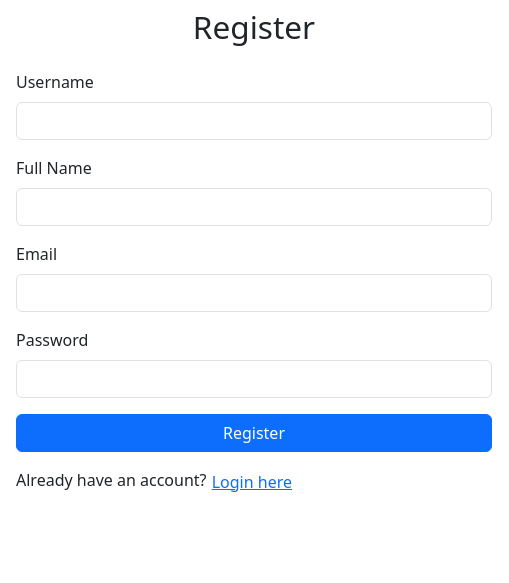
RegistrationPage Component › displays error message on registration failure
// Fill out the form
Type "existinguser" into the field labelled "Username".
click(254, 121); type("existinguser")  # box [16, 102, 492, 140]
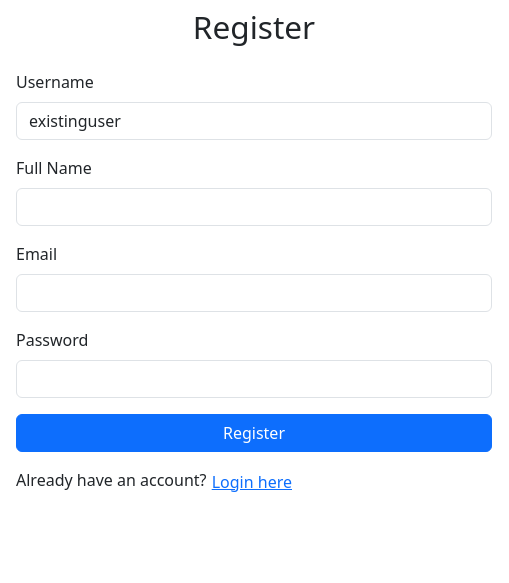
Type "Test User" into the field labelled "Full Name".
click(254, 207); type("Test User")  # box [16, 188, 492, 226]
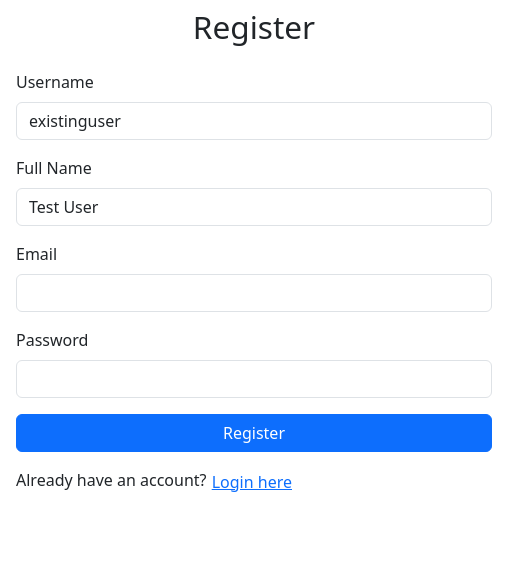
Type "test@example.com" into the field labelled "Email".
click(254, 293); type("test@example.com")  # box [16, 274, 492, 312]
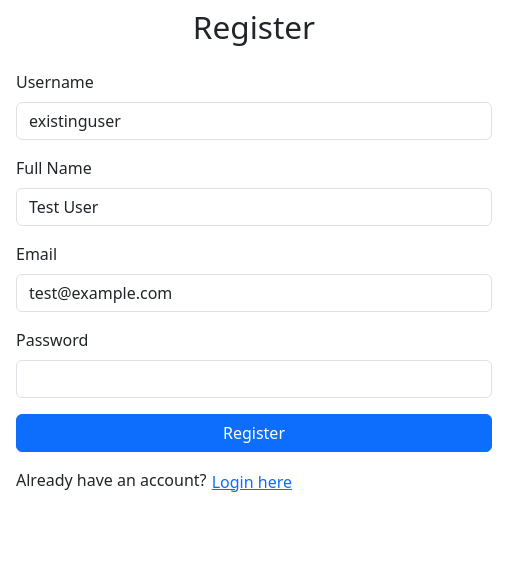
Type "password123" into the password field labelled "Password".
click(254, 379); type("password123")  # box [16, 360, 492, 398]
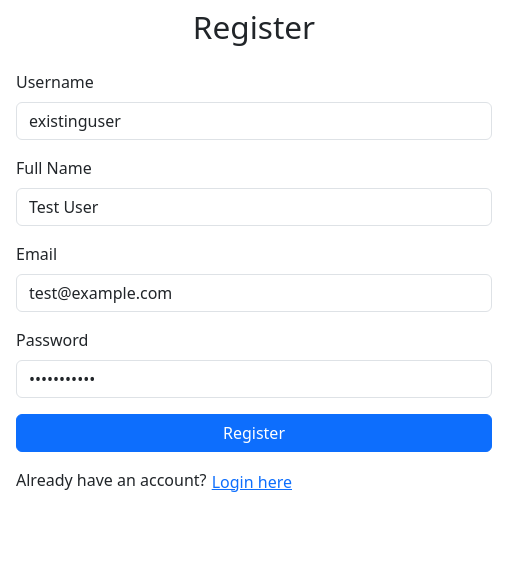
// Submit the form
Click the button "Register".
click(254, 433)  # box [16, 414, 492, 452]
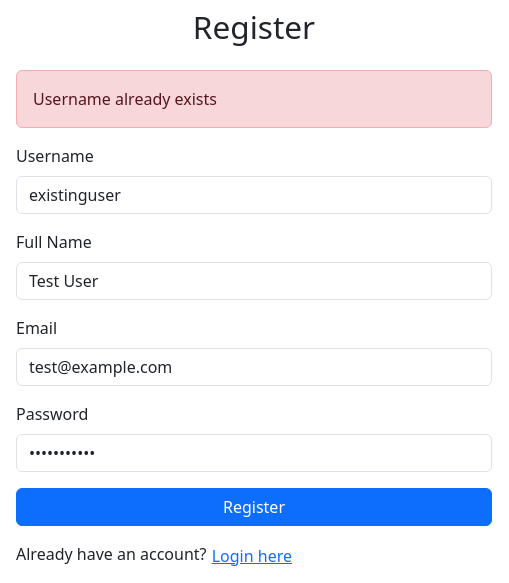
Expected: the text "Username already exists" is shown, [16, 70, 492, 128]
